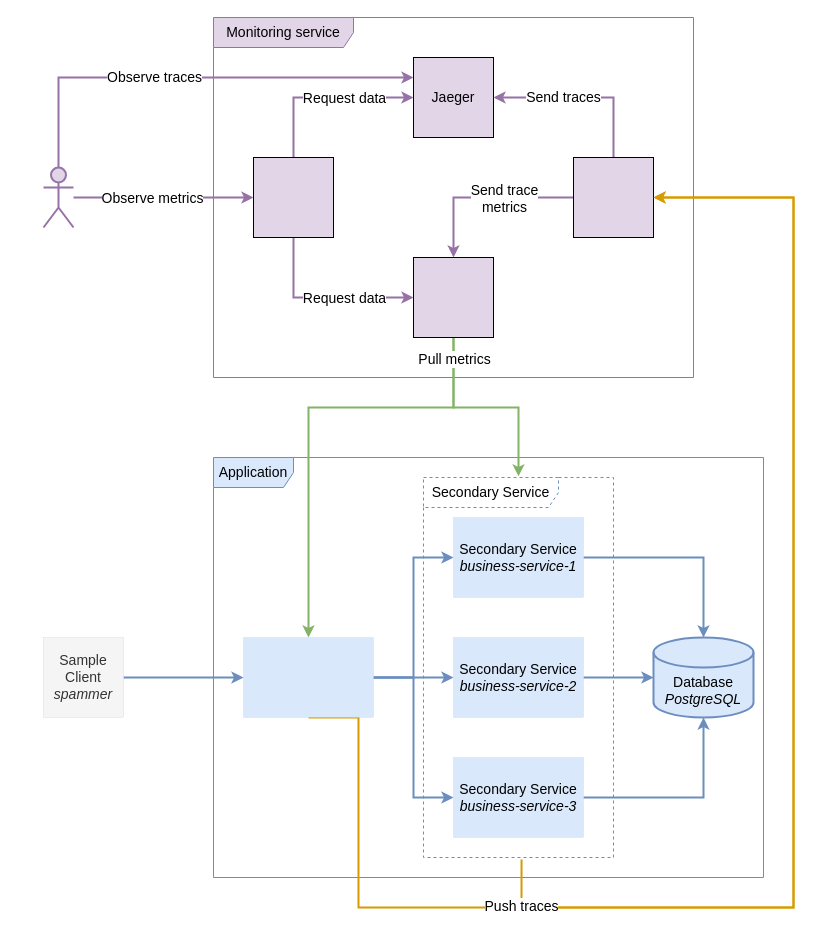
This 819x934 diagram has some shape labels left out. Each missing label, with the centre of its shape:
"Administrator" goes at pixel 58 197.
"Grafana" goes at pixel 293 197.
"OTEL Collector" goes at pixel 613 197.
"Primary Service proxy-service" goes at pixel 308 677.
"Prometheus" goes at pixel 453 297.
